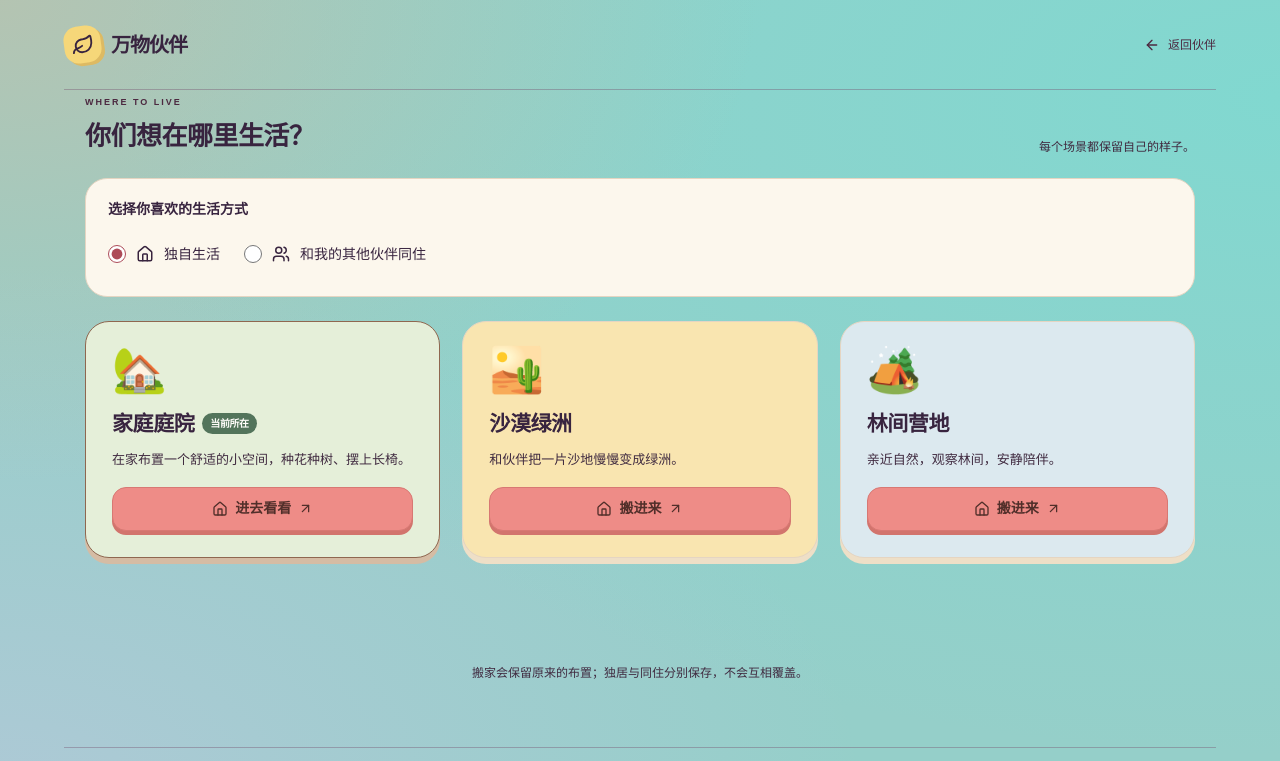
Test case: reconciles a lost creation response and exposes the saved space without replaying
What coordinates should you click on to do the following:
click the radio button labelled "和我的其他伙伴同住"
I would click on:
 (253, 254)
Its box is [244,245,262,263].
(page scrolled)
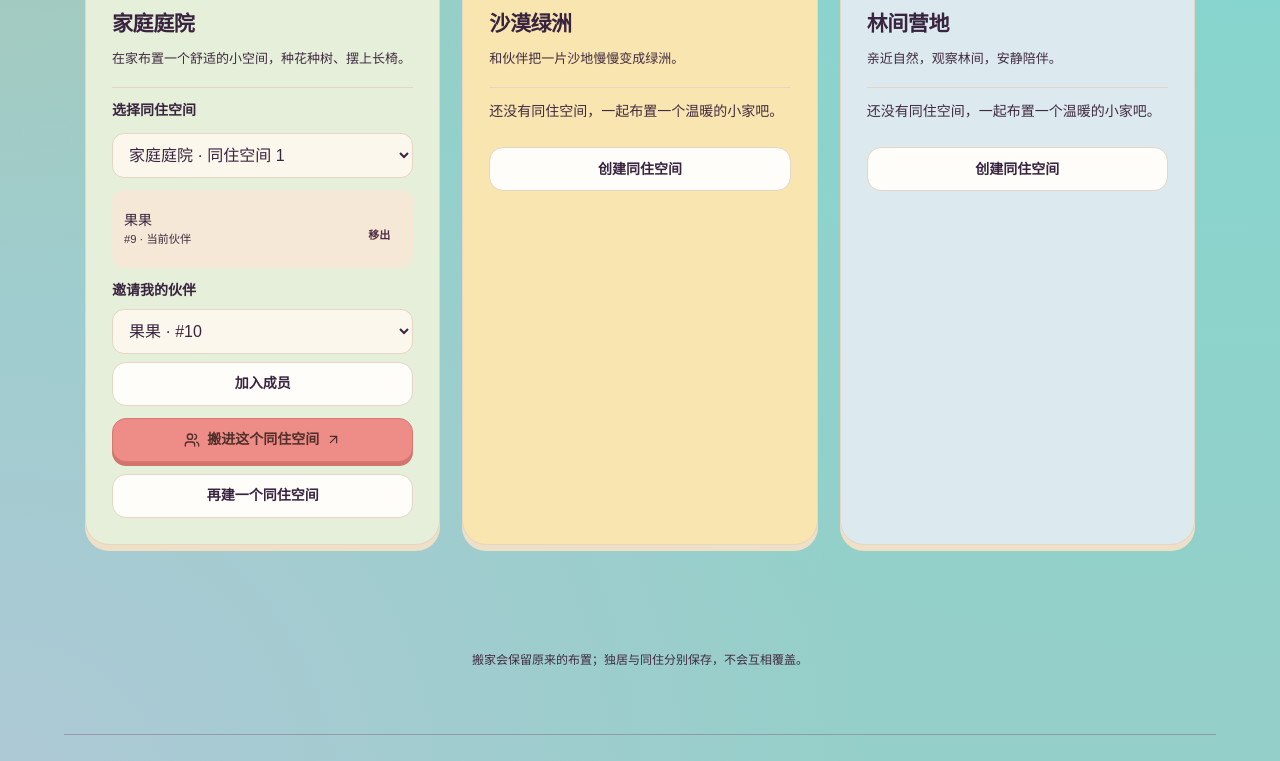
What coordinates should you click on to do the following:
click the button "再建一个同住空间"
I would click on:
 (263, 496)
Its box is [112,474,413,518].
(page scrolled)
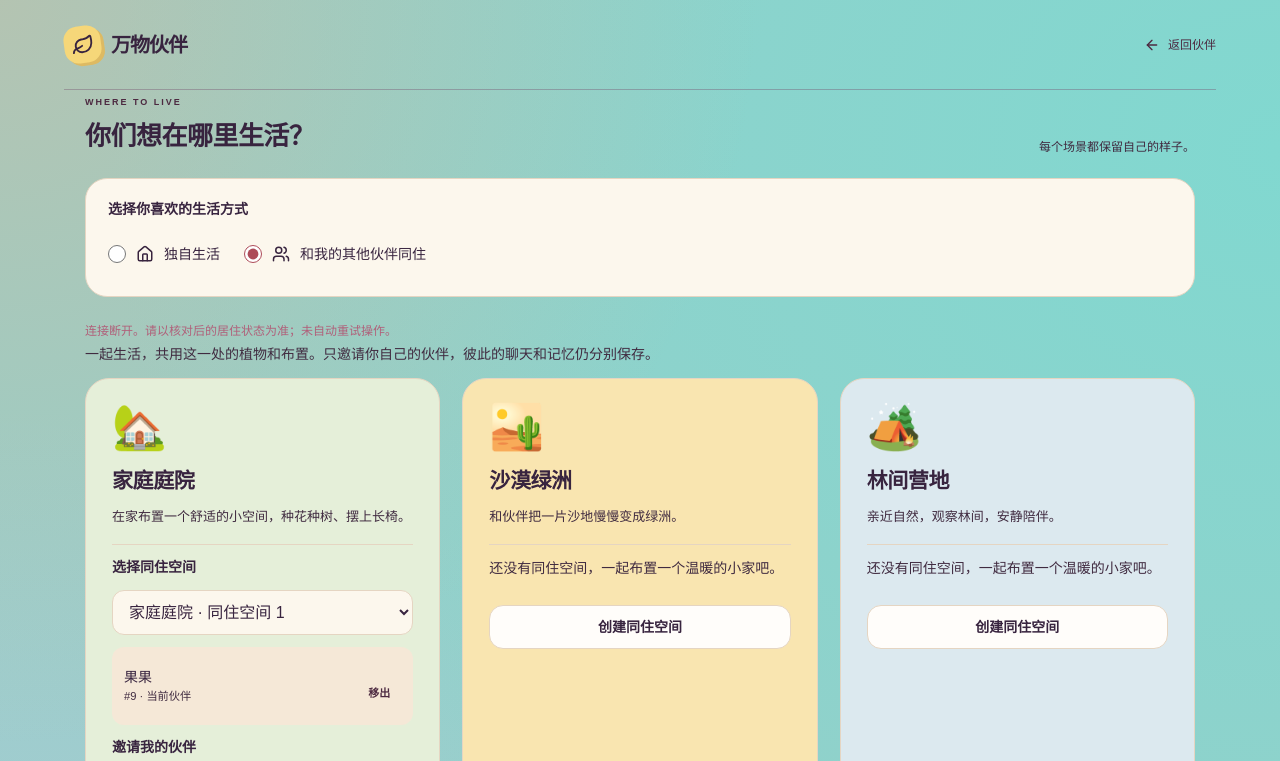
Check: the message "连接断开。请以核对后的居住状态为准；未自动重试操作。" is shown, box [85,324,397,338]
